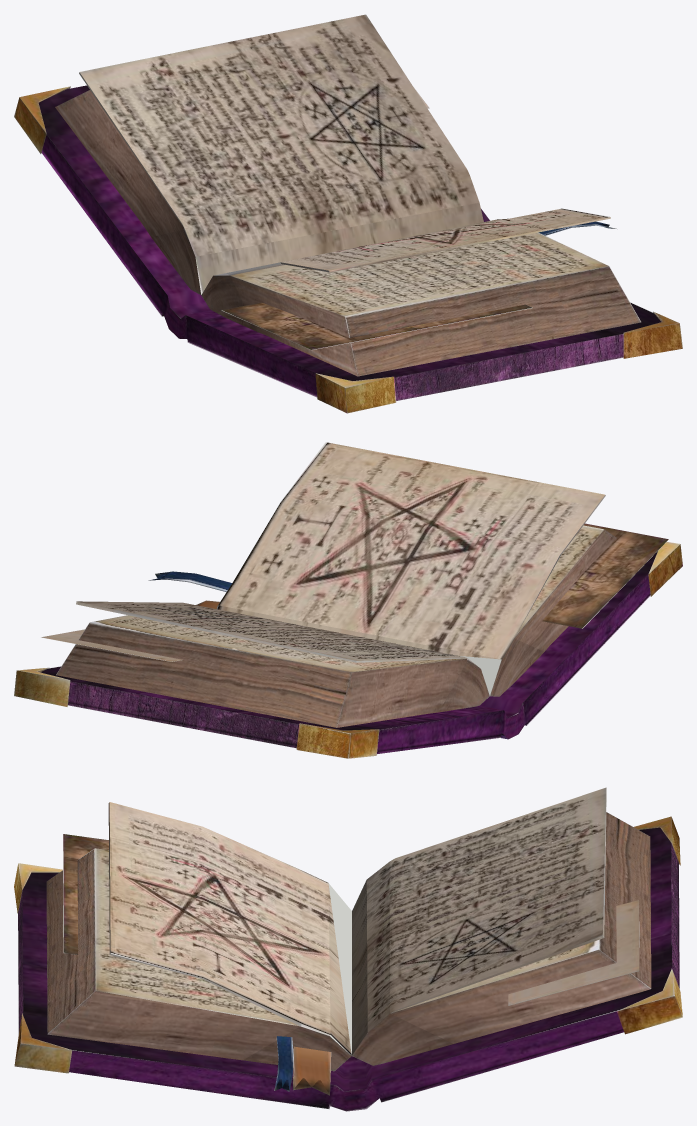
The model's file is MagicBook_3.fbx.
The picture shows the model from 3 angles, top to bottom: view 1: azimuth 30°, elevation 25°; view 2: azimuth 150°, elevation 25°; view 3: azimuth 270°, elevation 25°; orthographic projection.
Visible parts, largest first — view 1: MagicBook_3; view 2: MagicBook_3; view 3: MagicBook_3.
Part boxes in pixels (left/top/right/bottom): MagicBook_3: left=14, top=14, right=682, bottom=413; MagicBook_3: left=14, top=442, right=682, bottom=758; MagicBook_3: left=14, top=787, right=682, bottom=1111.
Size of the model in its own units: 92.45 by 38.62 by 130.
